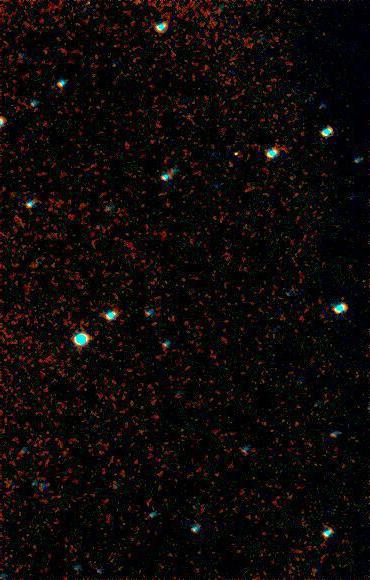star: (226, 133, 256, 163)
